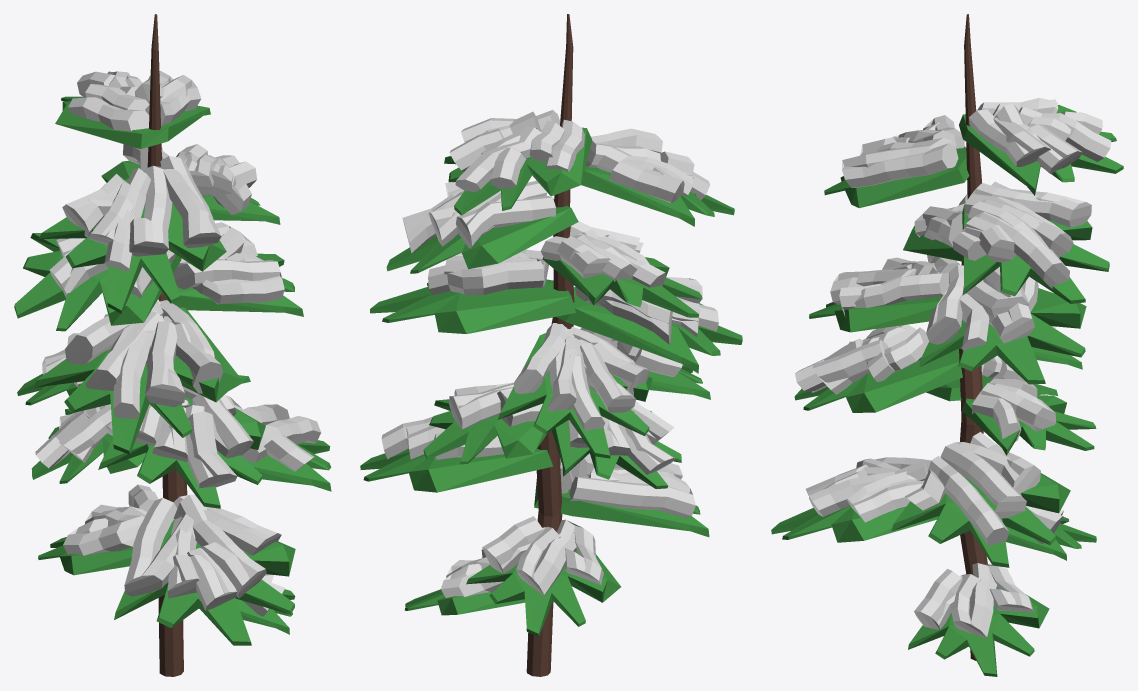
3 renders of one model, left to right at view 1: azimuth 30°, elevation 25°; view 2: azimuth 150°, elevation 25°; view 3: azimuth 270°, elevation 25°, orthographic. The views are drawn at different scales.
Visible parts, largest first — view 1: node_MeshObject-1604225024-PolyPaper21; view 2: node_MeshObject-1604225024-PolyPaper21; view 3: node_MeshObject-1604225024-PolyPaper21.
Part boxes in pixels (left/top/right/bottom): node_MeshObject-1604225024-PolyPaper21: left=14, top=14, right=331, bottom=676; node_MeshObject-1604225024-PolyPaper21: left=360, top=14, right=742, bottom=676; node_MeshObject-1604225024-PolyPaper21: left=771, top=14, right=1123, bottom=676.
Bounding box in the file's own units: 0.3981 × 0.7827 × 0.3955.
